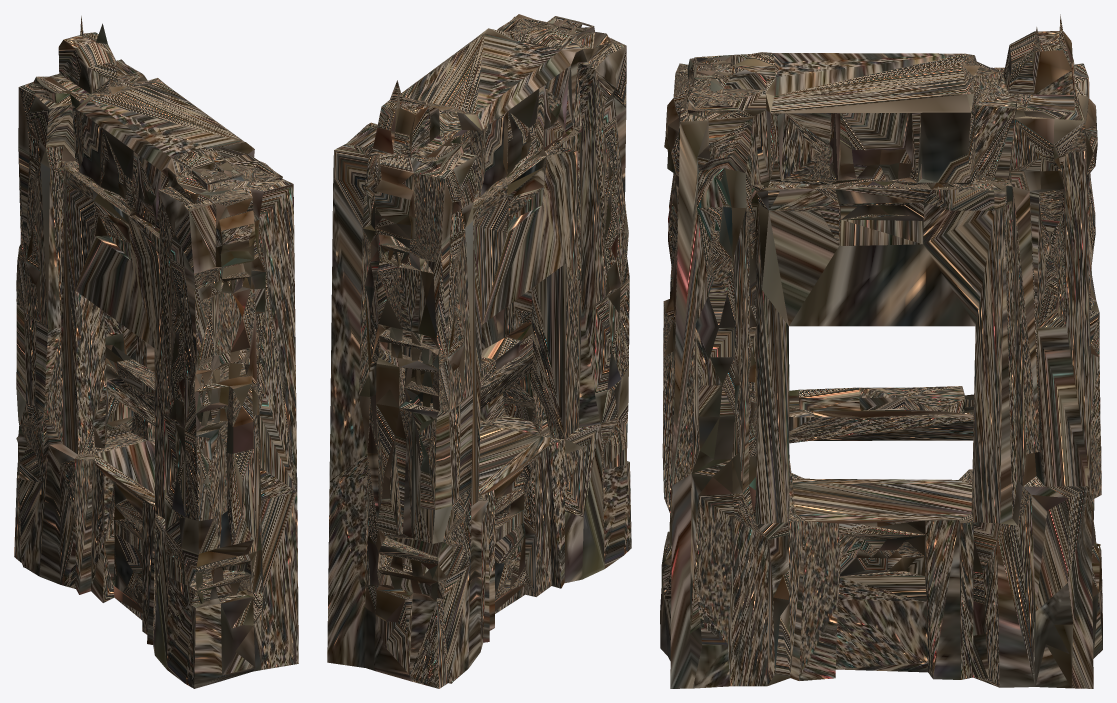
Rendered from m04_far.glb.
3 renders of one model, left to right at view 1: azimuth 30°, elevation 25°; view 2: azimuth 150°, elevation 25°; view 3: azimuth 270°, elevation 25°, orthographic. The views are drawn at different scales.
Parts seen in each view (by area): view 1: m04_far; view 2: m04_far; view 3: m04_far.
Boxes of the visible parts, x1,y1,x2,y2 form: m04_far: (14, 16, 298, 688); m04_far: (327, 14, 631, 688); m04_far: (660, 14, 1102, 688).
Bounding box in the file's own units: 29.68 × 140 × 87.09.
Materials: 1 (1 with a texture image).
